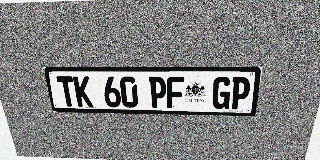0: (119, 76, 138, 108)
6: (102, 76, 121, 107)
F: (167, 77, 184, 108)
G: (211, 77, 232, 109)
K: (73, 76, 93, 107)
P: (229, 77, 251, 109), (149, 77, 166, 108)
T: (56, 76, 77, 107)
